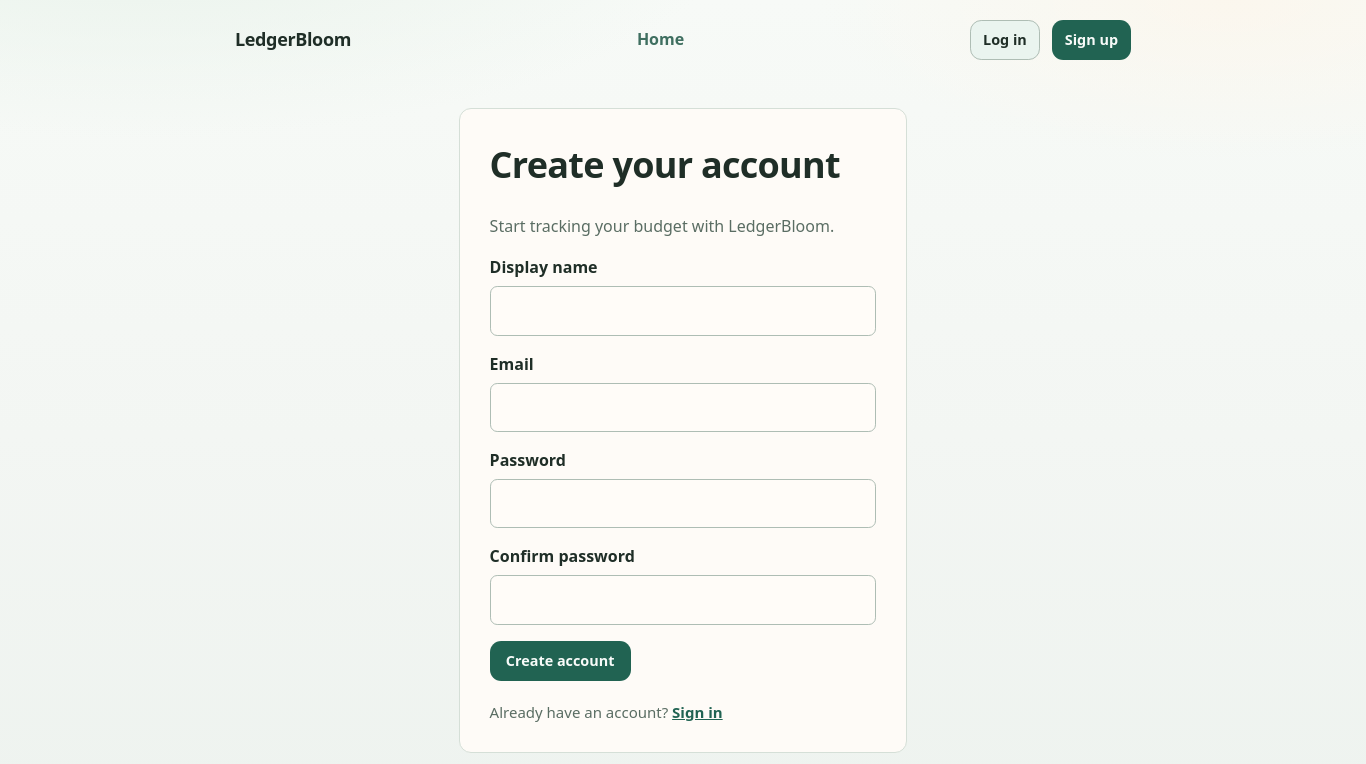
it: Auth routes › registers successfully, signs in, and navigates to the dashboard
In the field labelled "Display name": (683, 311) [490,286,876,336], type "Jane Doe"
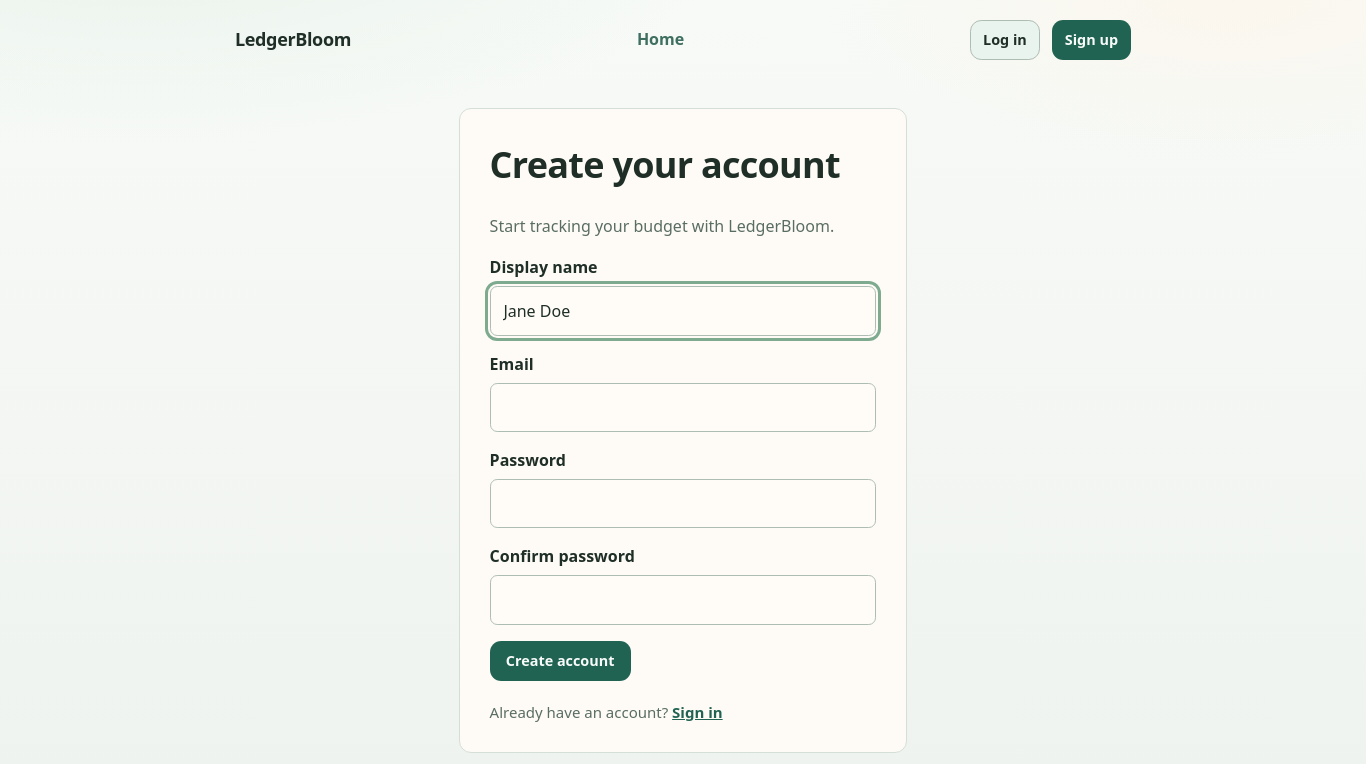
In the field labelled "Email": (683, 407) [490,383,876,432], type "user@example.com"
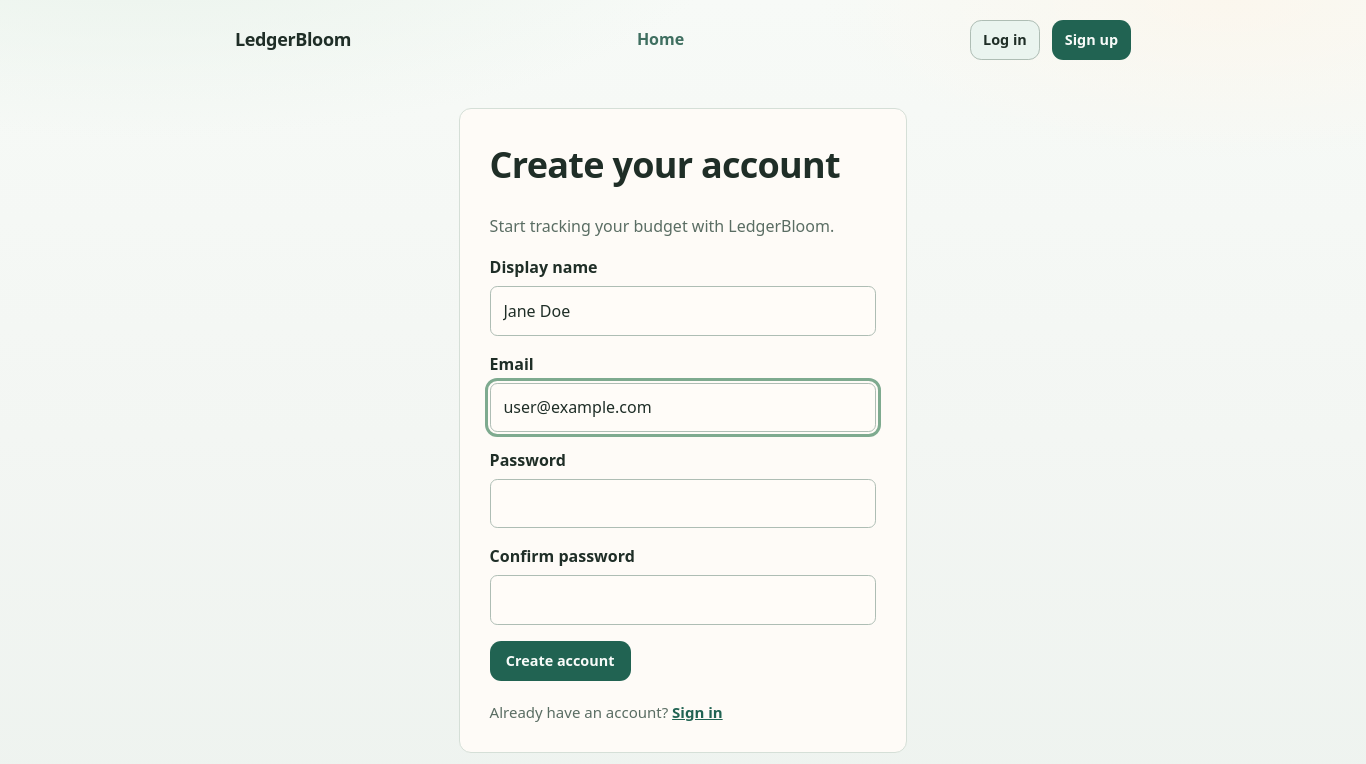
In the password field labelled "Password": (683, 504) [490,479,876,528], type "supersecret12"
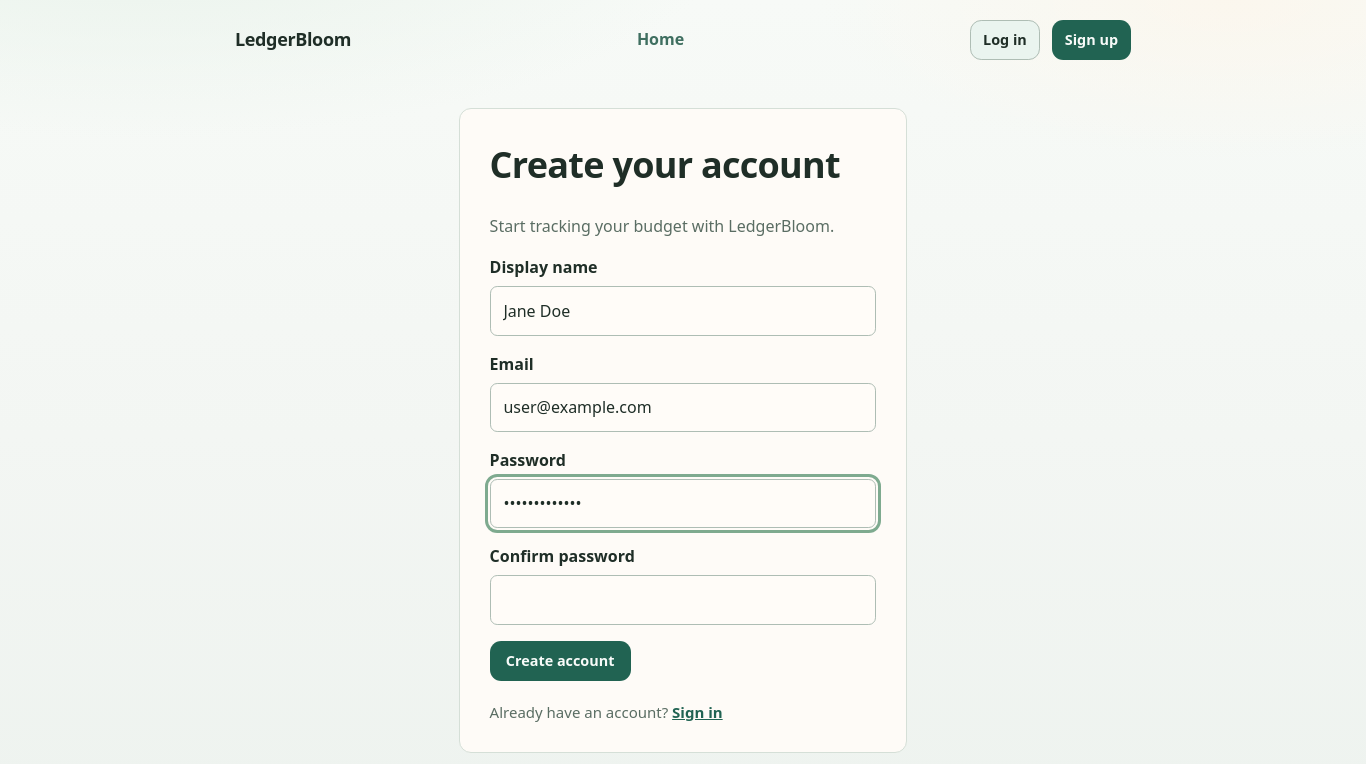
In the password field labelled "Confirm password": (683, 600) [490,576,876,625], type "supersecret12"
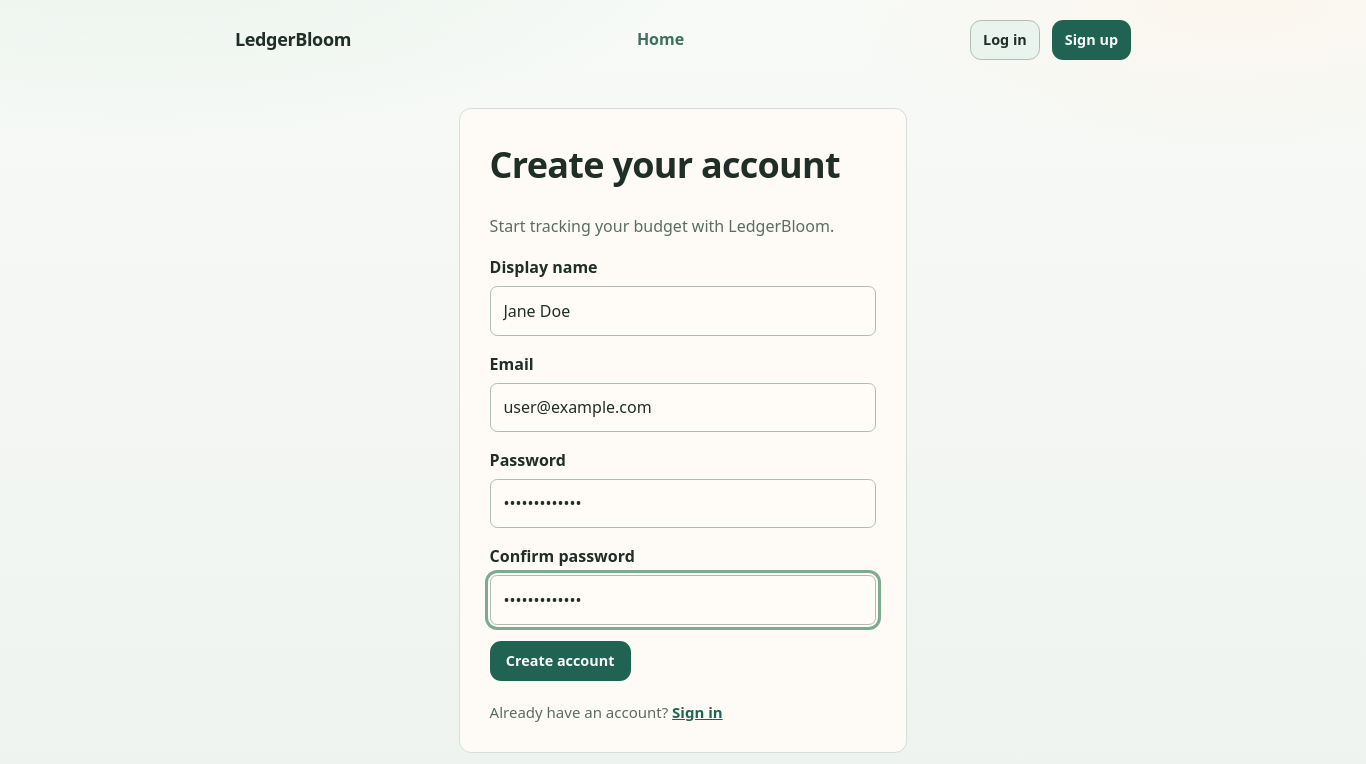
Click the button "Create account": (560, 661) [490,641,631,681]
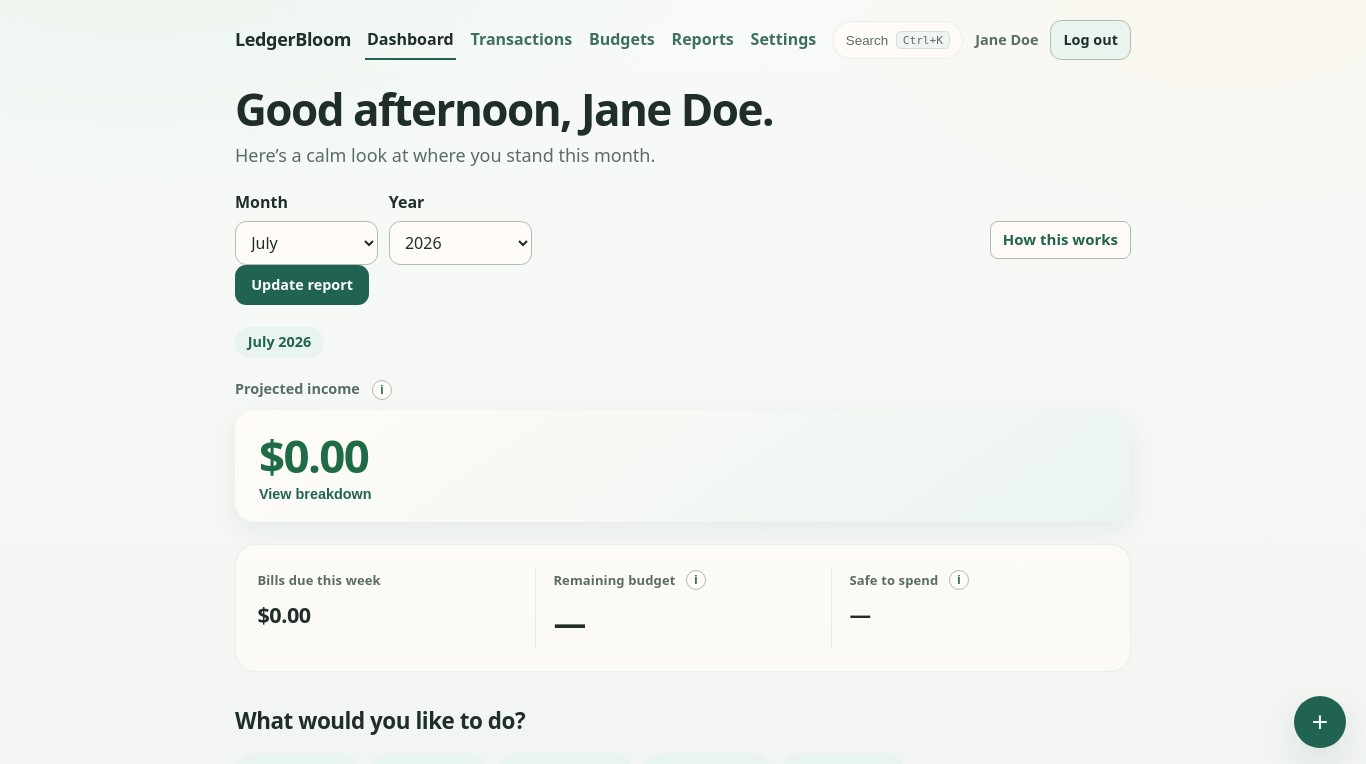
Now the heading "Good afternoon, Jane Doe." is shown, box [235,79,773,139]
